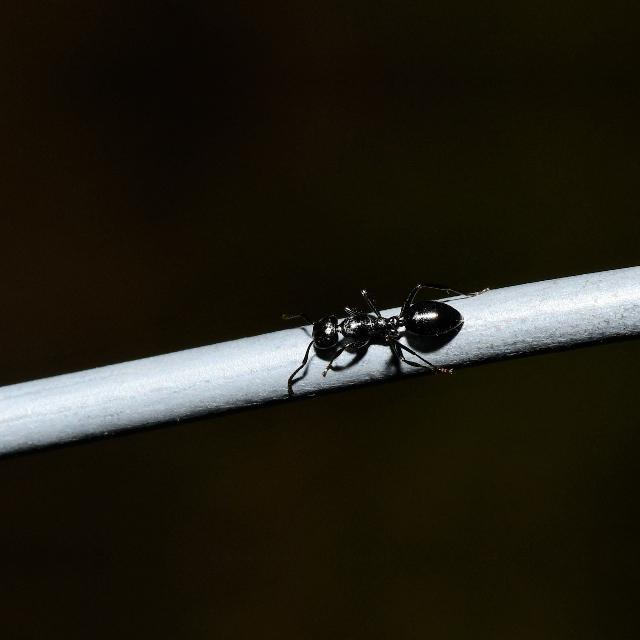Colobopsis: (277, 276, 475, 378)
